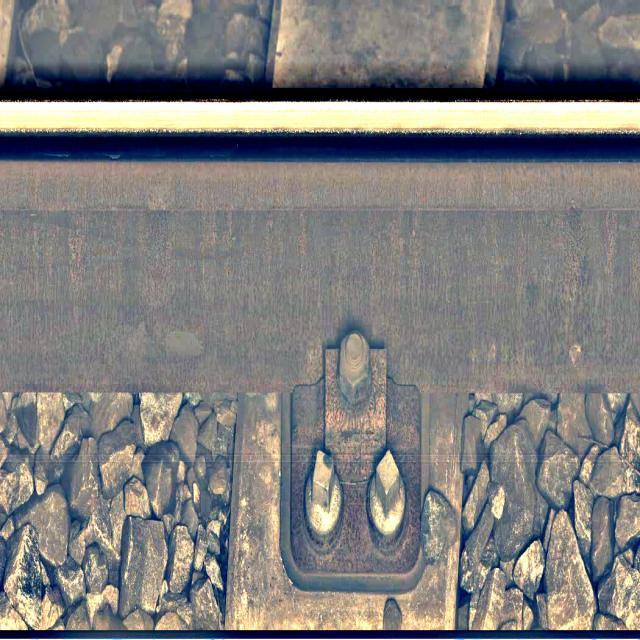Good Fasteners: (280, 333, 422, 592)
